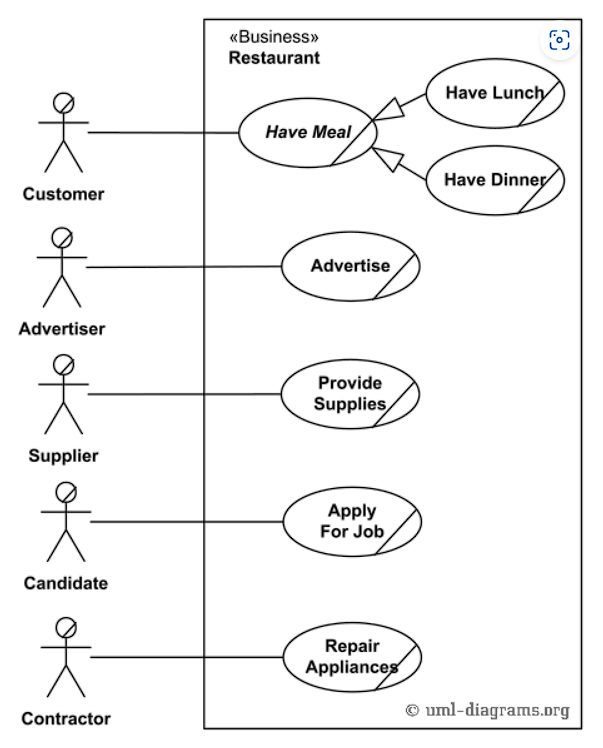actor: (37, 477, 94, 567), (30, 223, 87, 312), (37, 612, 90, 702), (36, 88, 88, 178), (36, 350, 89, 438)
association: (87, 383, 279, 404), (90, 649, 281, 668), (91, 513, 282, 531), (86, 124, 237, 141), (85, 260, 279, 273)
generalization: (373, 147, 429, 181), (375, 91, 424, 123)
text: (218, 27, 333, 72), (303, 634, 402, 678), (312, 498, 391, 543), (310, 372, 388, 414), (422, 701, 576, 721), (437, 166, 551, 192), (19, 707, 120, 731), (25, 442, 107, 471), (18, 179, 106, 206), (307, 254, 398, 280), (18, 571, 112, 596), (443, 80, 549, 101), (13, 318, 113, 339), (262, 120, 353, 143)
use_case: (280, 483, 424, 560), (423, 55, 567, 131), (279, 229, 424, 304), (278, 357, 422, 432), (236, 95, 379, 170), (424, 144, 567, 218), (283, 620, 425, 694)
